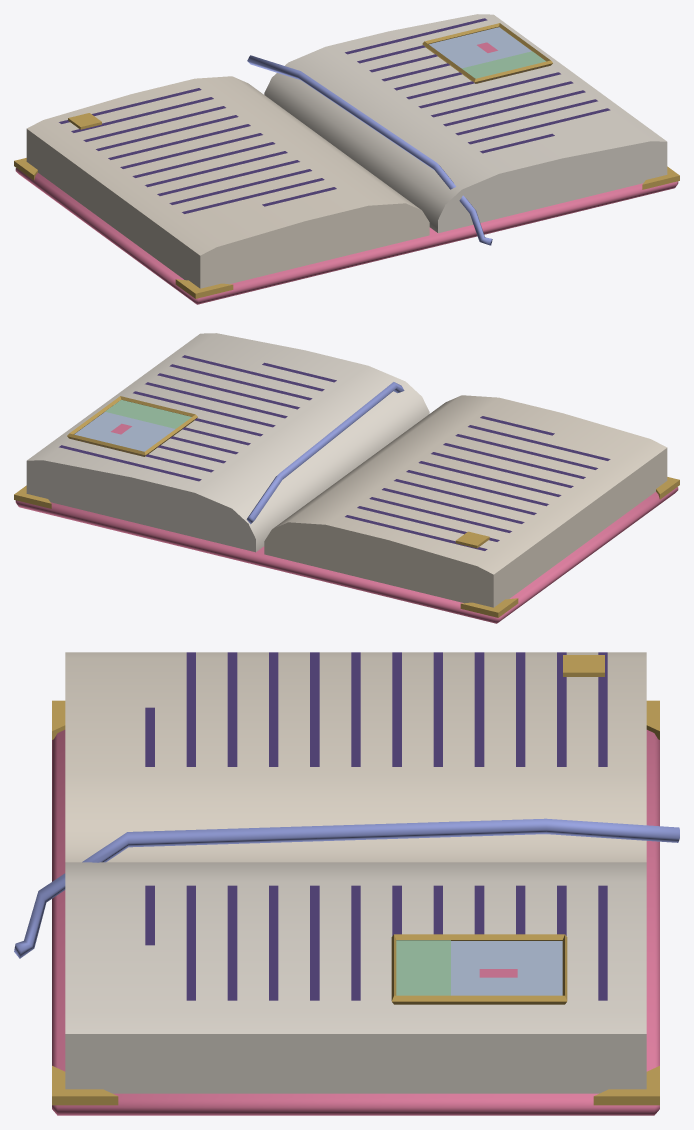
The model's file is book_open.glb.
3 renders of one model, top to bottom at view 1: azimuth 30°, elevation 25°; view 2: azimuth 150°, elevation 25°; view 3: azimuth 270°, elevation 25°, orthographic. The views are drawn at different scales.
Parts seen in each view (by area): view 1: book_open; view 2: book_open; view 3: book_open.
Boxes of the visible parts, box(x1,y1,x2,y2) form: book_open: box(14, 14, 679, 304); book_open: box(14, 333, 679, 623); book_open: box(14, 652, 679, 1115).
Size of what is drawn, in the model's own units: 0.45 by 0.06 by 0.32.
